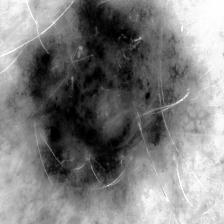Benign Marking or Mole: (15, 0, 194, 189)
